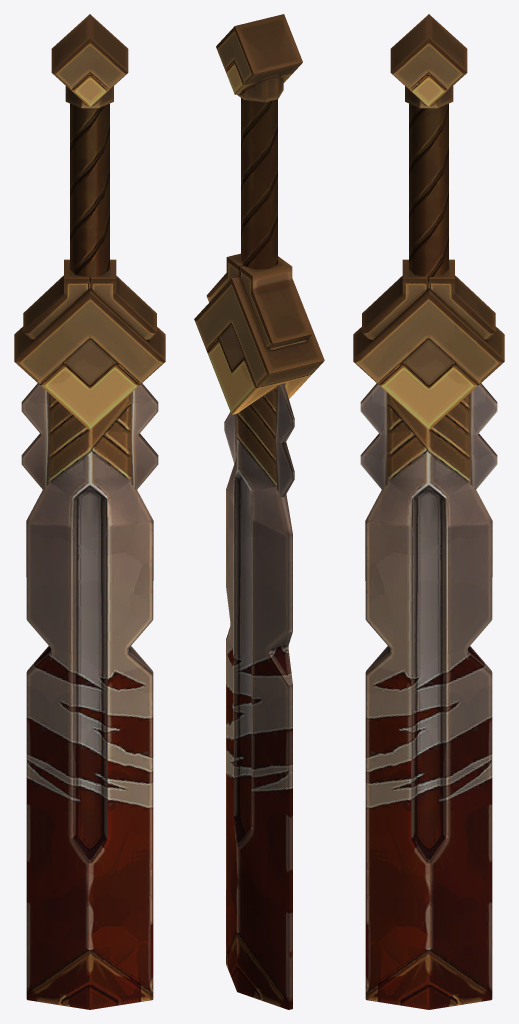
File: Aramsham_Sword_TRUE_FBX.fbx
3 views of the same model, side by side, from view 1: azimuth 90°, elevation 25°; view 2: azimuth 210°, elevation 25°; view 3: azimuth 270°, elevation 25° (orthographic).
Visible parts, largest first — view 1: AramshamSword; view 2: AramshamSword; view 3: AramshamSword.
Part boxes in pixels (bbox=[...]): AramshamSword: bbox=[14, 14, 165, 1009]; AramshamSword: bbox=[194, 14, 324, 1009]; AramshamSword: bbox=[353, 14, 504, 1009].
Bounding box in the file's own units: 0.1368 × 0.322 × 2.28.
